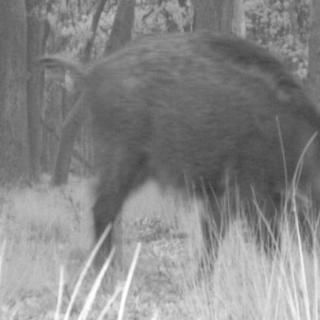Pig: (78, 35, 320, 277)
